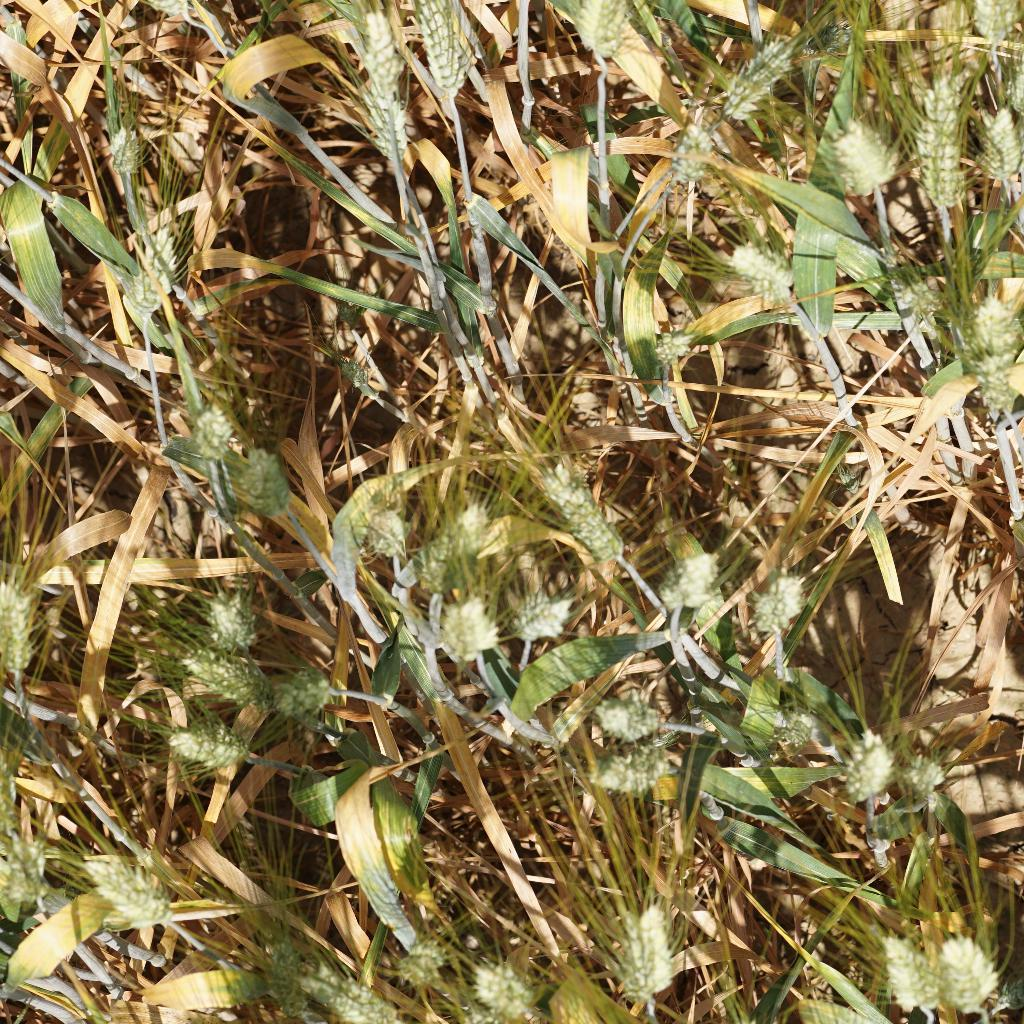0-0: (530, 458, 630, 575), (149, 632, 283, 714), (81, 841, 187, 940), (691, 26, 796, 122), (907, 63, 972, 210), (814, 109, 903, 213), (104, 212, 189, 316), (146, 703, 263, 774), (959, 281, 1020, 417), (351, 81, 433, 174), (402, 0, 481, 96), (870, 923, 949, 1017), (284, 960, 400, 1024), (224, 432, 311, 516), (649, 542, 733, 626), (337, 0, 413, 90), (931, 920, 1006, 1011), (413, 501, 493, 586), (602, 907, 675, 998), (717, 231, 808, 303), (829, 712, 896, 804), (735, 563, 812, 640), (587, 737, 677, 802), (559, 0, 642, 70), (504, 578, 578, 656), (263, 916, 316, 1024), (428, 590, 504, 665), (264, 658, 346, 727), (462, 956, 544, 1024), (0, 579, 49, 690), (892, 740, 964, 815), (583, 688, 673, 748), (658, 108, 723, 187), (0, 813, 47, 920), (187, 578, 264, 642), (346, 489, 413, 556), (975, 101, 1024, 190), (175, 398, 242, 452), (800, 7, 872, 54), (393, 919, 448, 979), (103, 114, 147, 181), (493, 217, 532, 292), (953, 0, 1024, 38), (893, 266, 941, 319), (766, 709, 819, 756), (651, 321, 695, 367), (553, 206, 576, 293), (332, 353, 372, 392), (835, 461, 864, 497), (335, 297, 358, 326)
